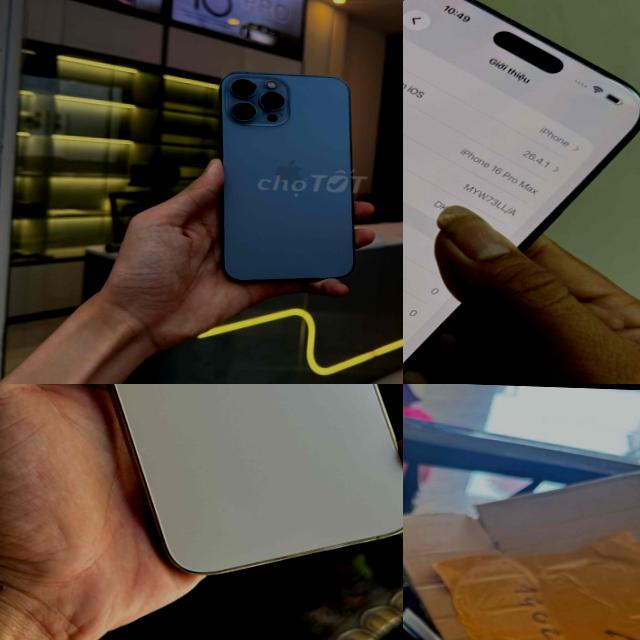gen_12_13: (15, 384, 403, 585), (215, 64, 365, 294)
gen_16: (403, 0, 640, 370)
